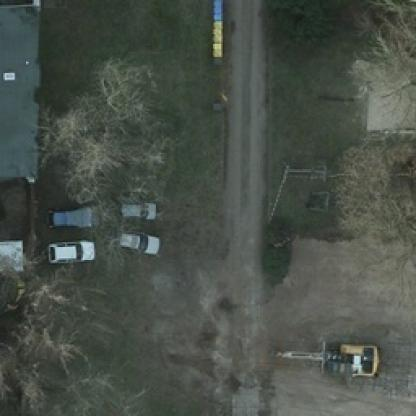car: (107, 228, 161, 255), (112, 192, 156, 221), (48, 237, 92, 262)
